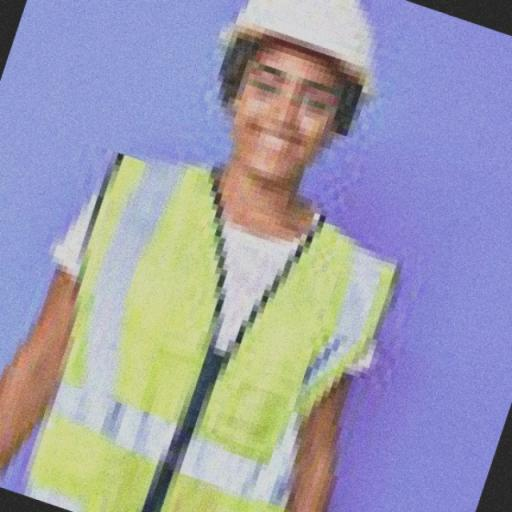Person: (2, 2, 474, 512)
helmet: (218, 3, 381, 92)
vest: (40, 158, 412, 512)
